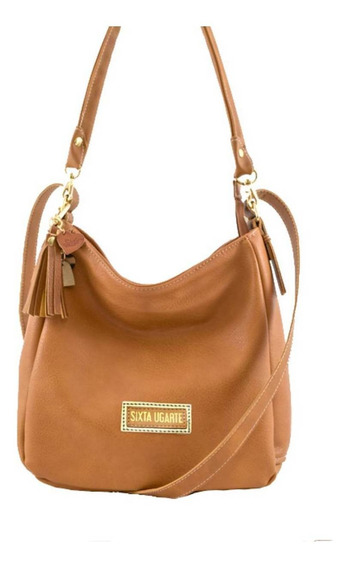cartera: (16, 26, 301, 498)
